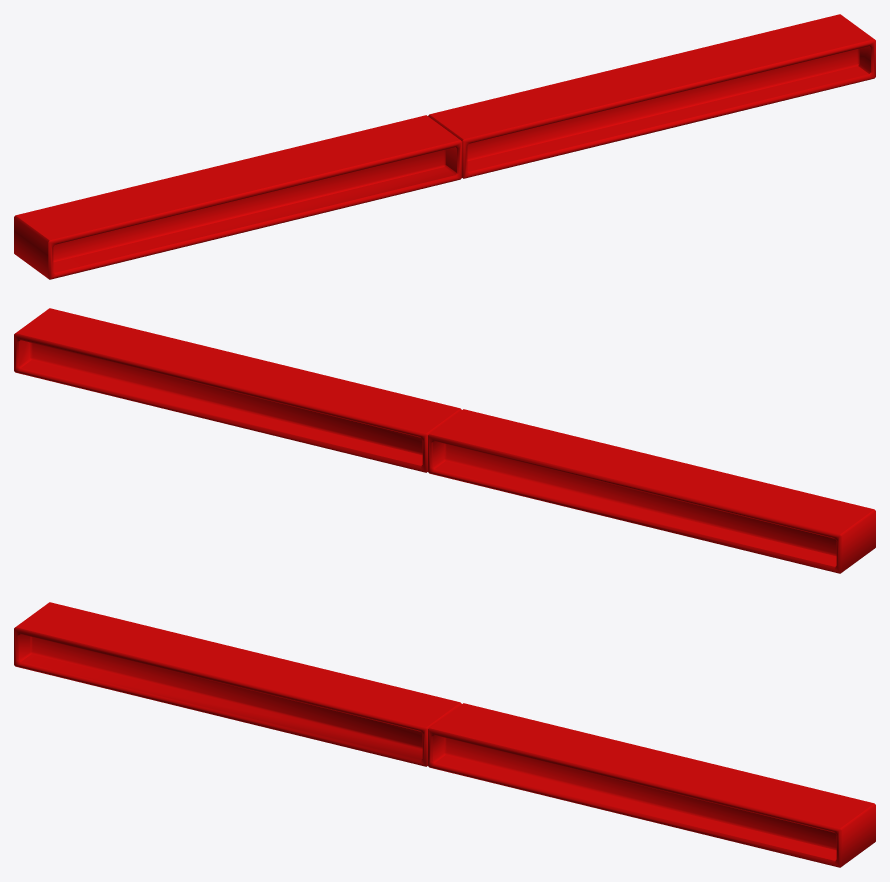
3 renders of one model, top to bottom at view 1: azimuth 30°, elevation 25°; view 2: azimuth 150°, elevation 25°; view 3: azimuth 330°, elevation 25°, orthographic.
Parts seen in each view (by area): view 1: Mesh; view 2: Mesh; view 3: Mesh.
Boxes of the visible parts, bbox=[...] form: Mesh: bbox=[14, 14, 875, 279]; Mesh: bbox=[14, 308, 875, 573]; Mesh: bbox=[14, 602, 875, 867].
Size of the model in its own units: 12 by 0.5466 by 0.9072.
